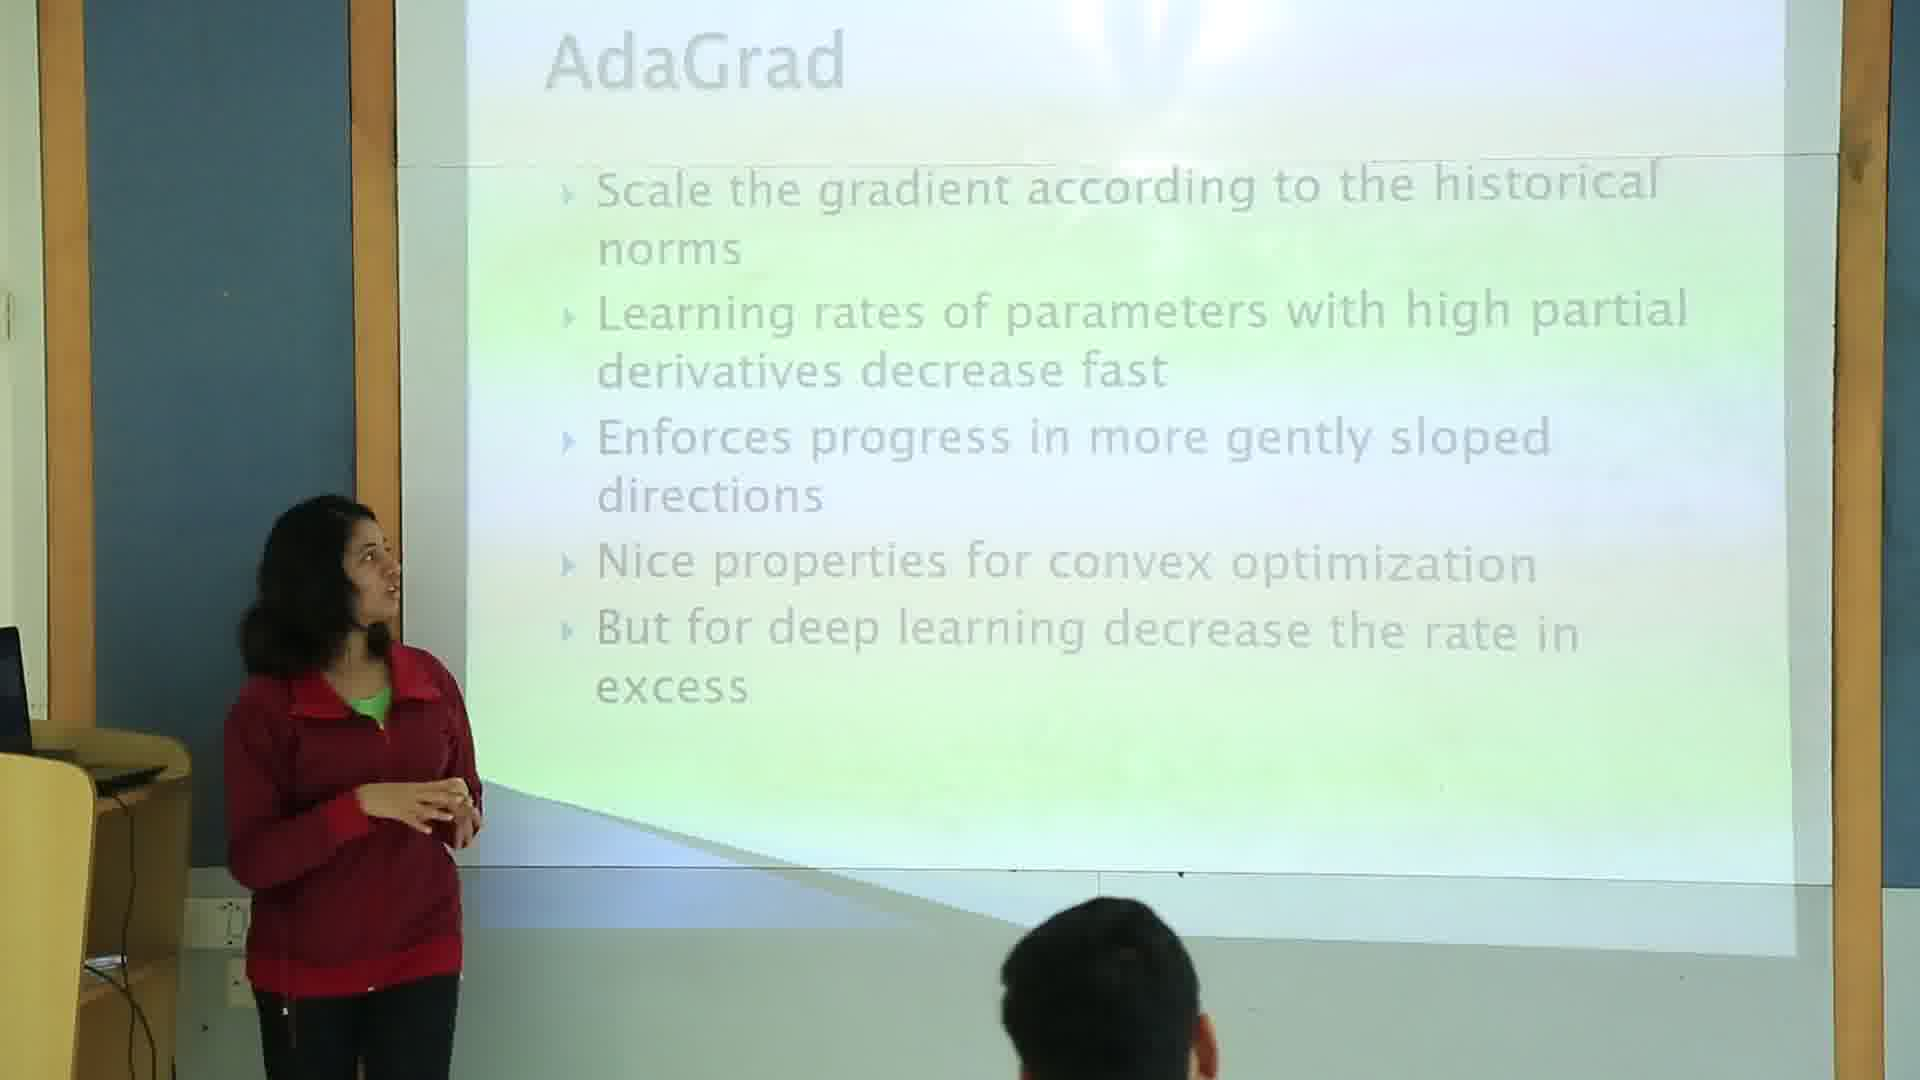slide: (465, 3, 1795, 956)
